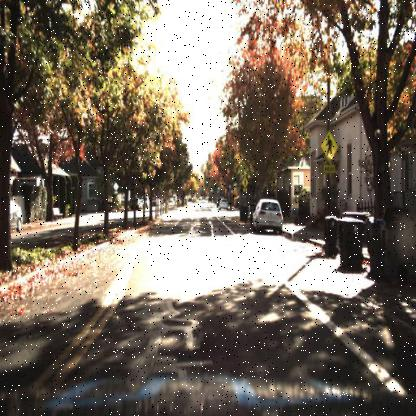car: (248, 195, 284, 233), (0, 200, 24, 231), (217, 197, 228, 212)
